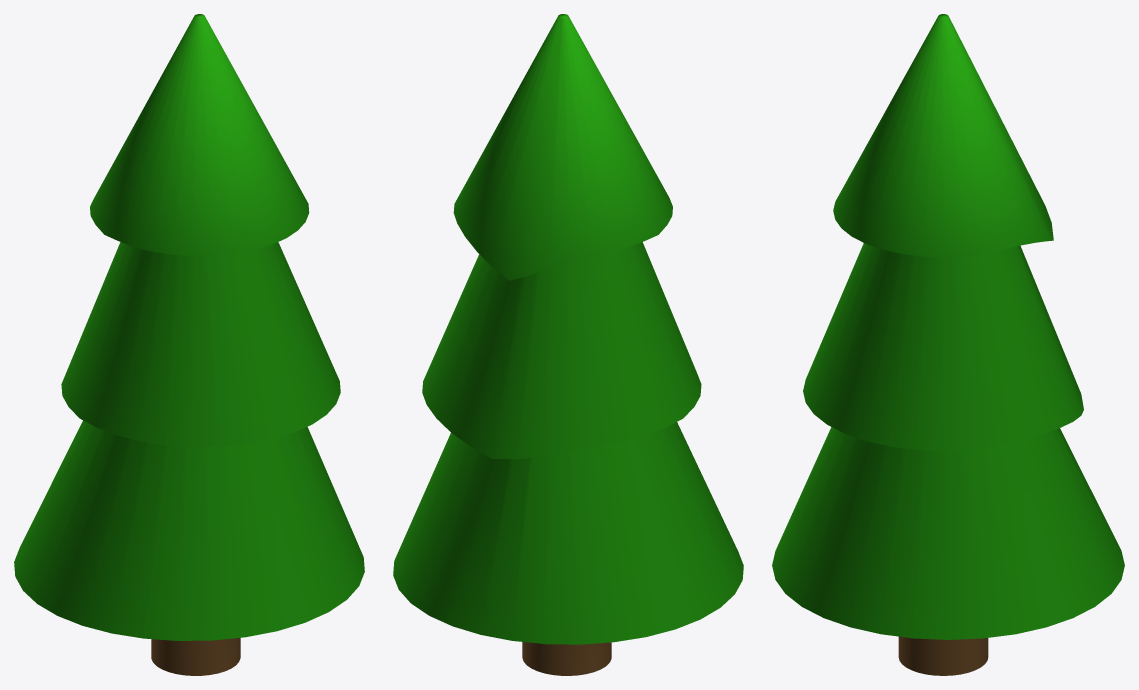
The model's file is Arbol_vivo2.fbx.
3 renders of one model, left to right at view 1: azimuth 30°, elevation 25°; view 2: azimuth 150°, elevation 25°; view 3: azimuth 270°, elevation 25°, orthographic.
Visible parts, largest first — view 1: Pino.002; view 2: Pino.002; view 3: Pino.002.
Part boxes in pixels (left/top/right/bottom): Pino.002: left=14, top=14, right=364, bottom=675; Pino.002: left=393, top=14, right=743, bottom=675; Pino.002: left=772, top=14, right=1124, bottom=675.
Size of the model in its own units: 175 by 351 by 175.
